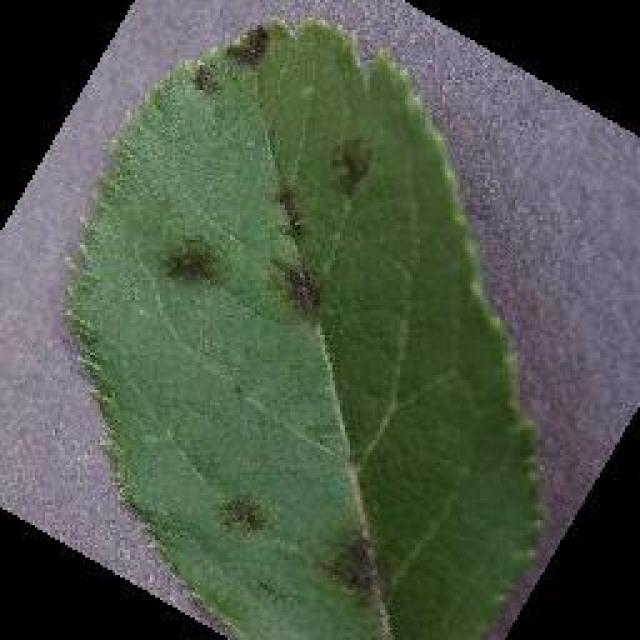apple scab disease: (58, 12, 550, 638)
